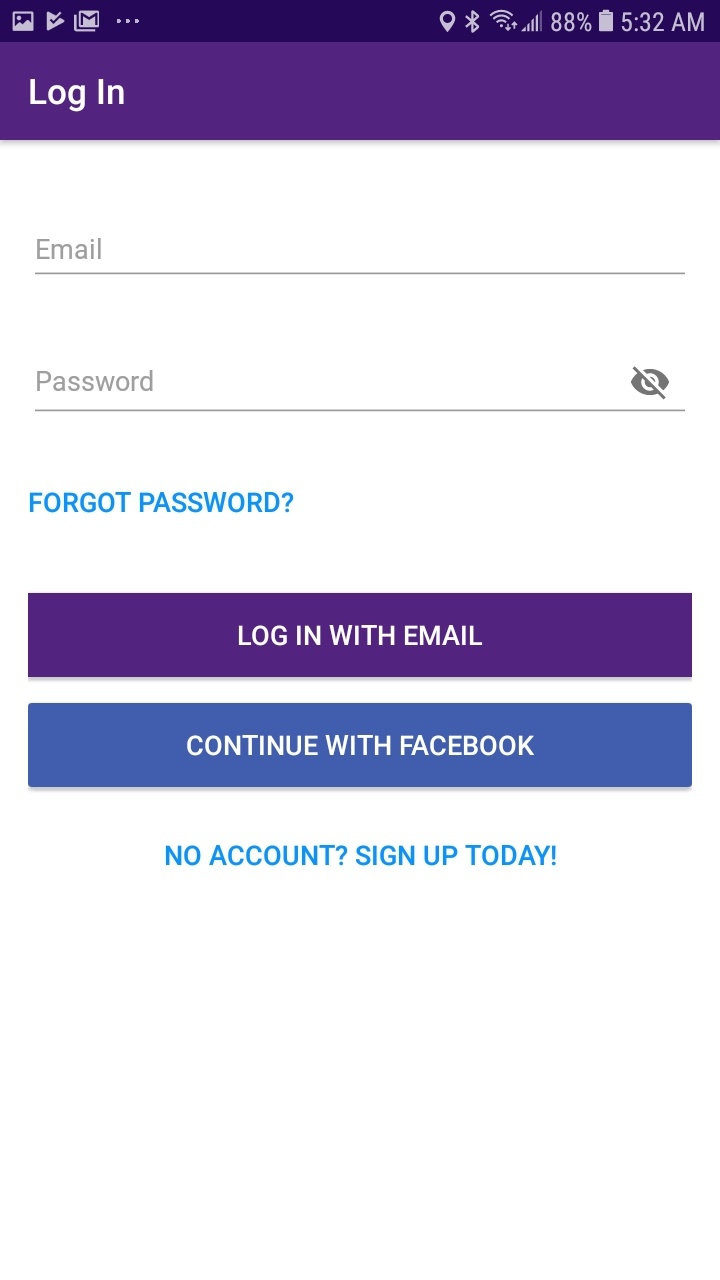EditText: (36, 367, 686, 413), (36, 238, 686, 276)
Icon: (631, 367, 670, 401)
Text: (166, 844, 557, 867), (31, 491, 295, 514), (30, 79, 126, 113), (38, 370, 154, 392), (37, 238, 102, 261)
TextButton: (28, 703, 692, 788), (28, 593, 692, 678)
UpperTaskBar: (1, 1, 720, 43)
